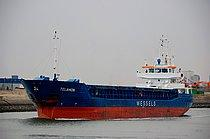Ship: (18, 36, 197, 124)
